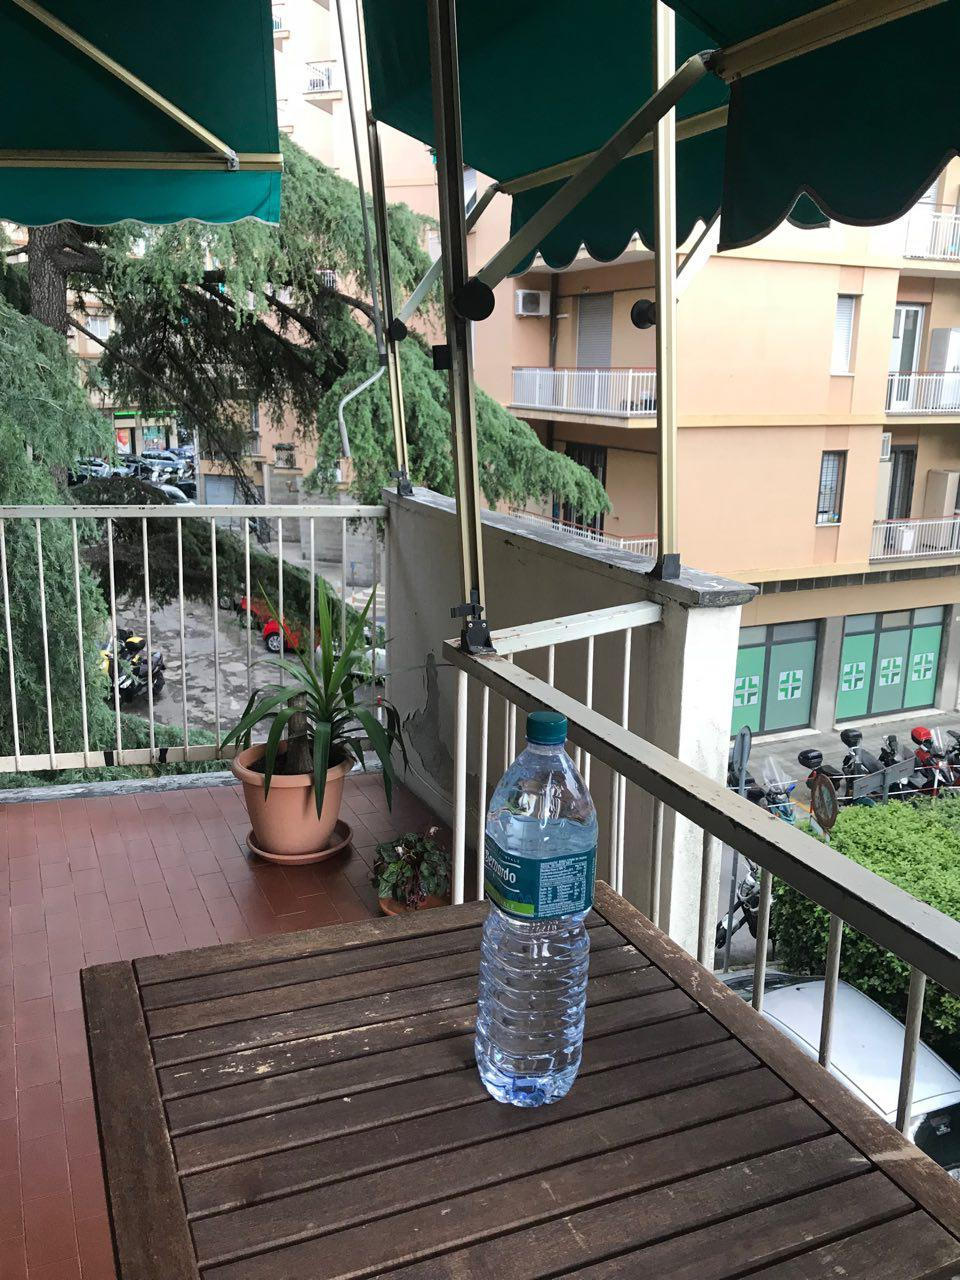san_bernardo: (472, 707, 598, 1109)
